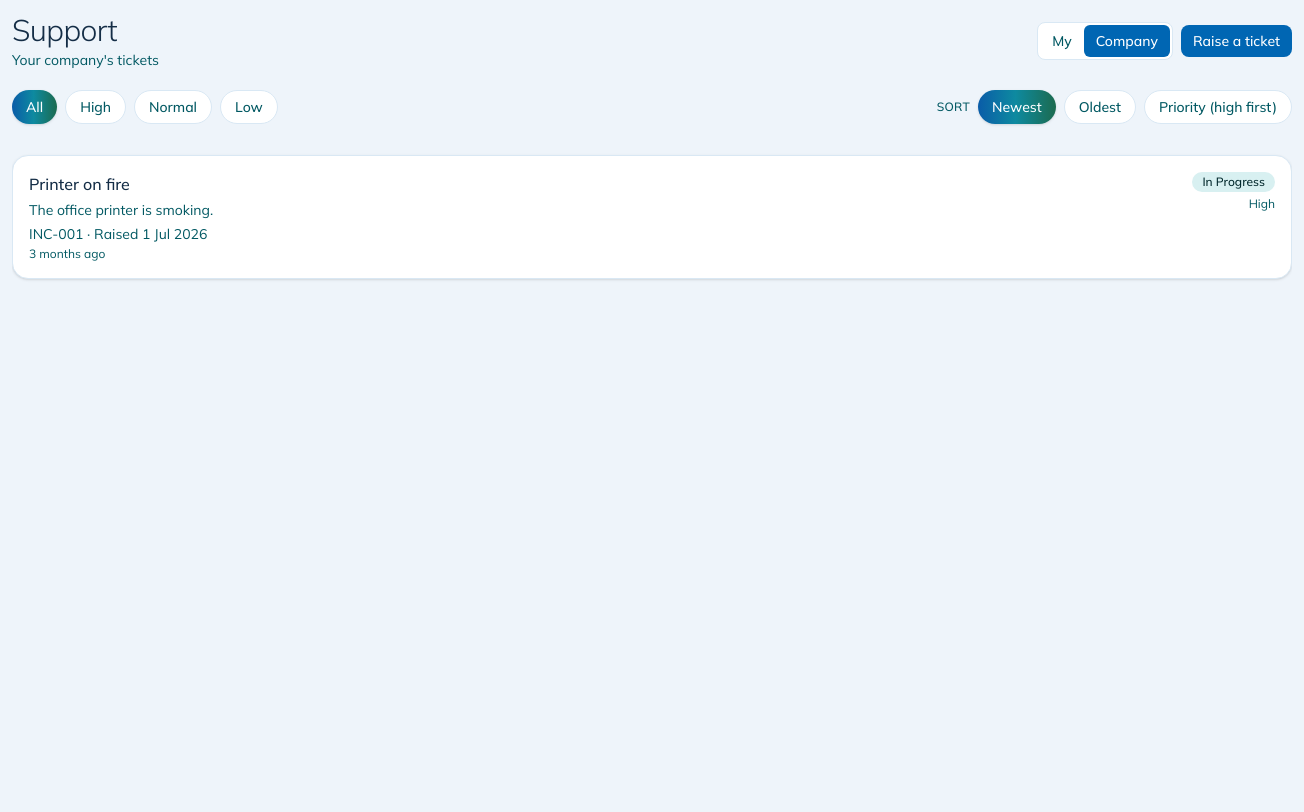
it: CasesPage › raise a ticket › disables submit until a summary is typed
The image size is (1304, 812).
Expected: the text "Printer on fire" is shown, [29,174,130,194]
Click the button "Raise a ticket": (1236, 41) [1181,25,1292,57]
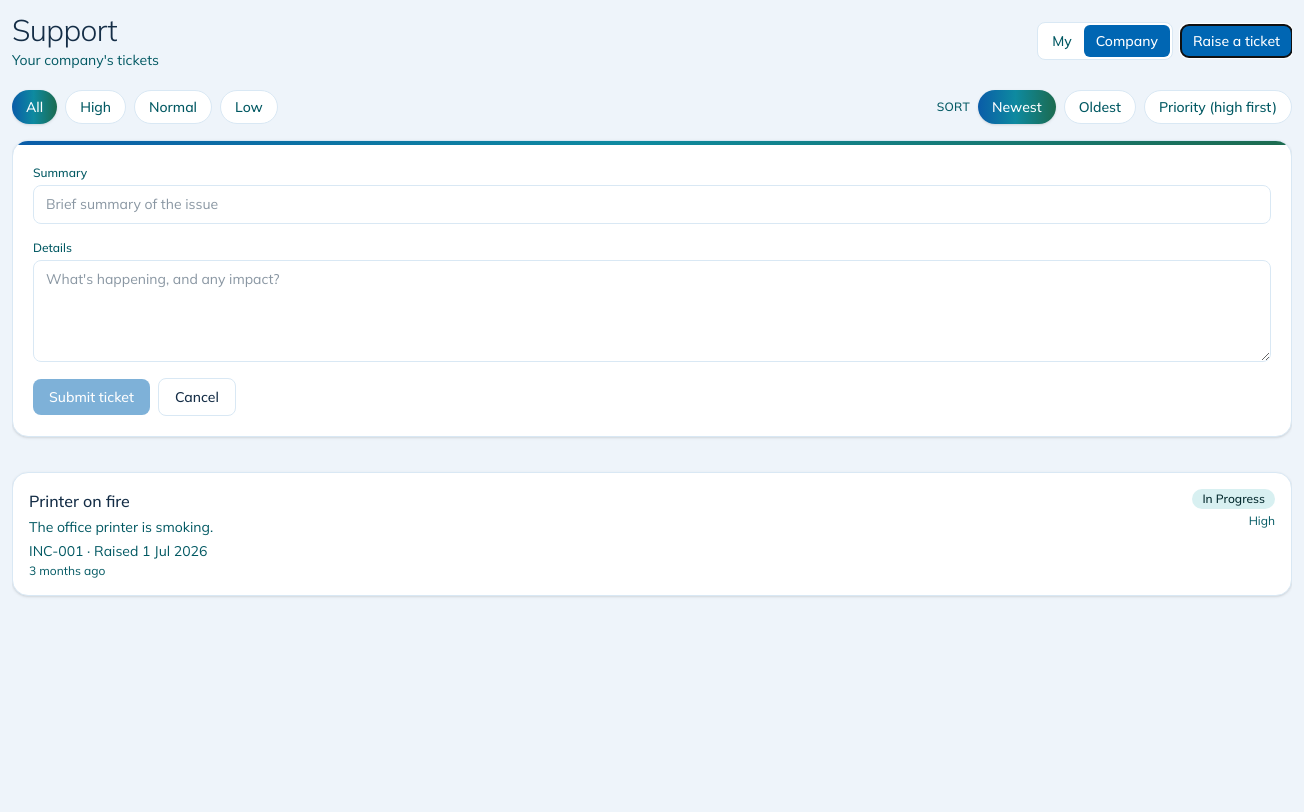
Expected: the button "Submit ticket" is disabled, [33,379,150,415]
In the field with placeholder "Brief summary of the issue": (652, 204) [33,185,1271,224], type "Broken laptop"
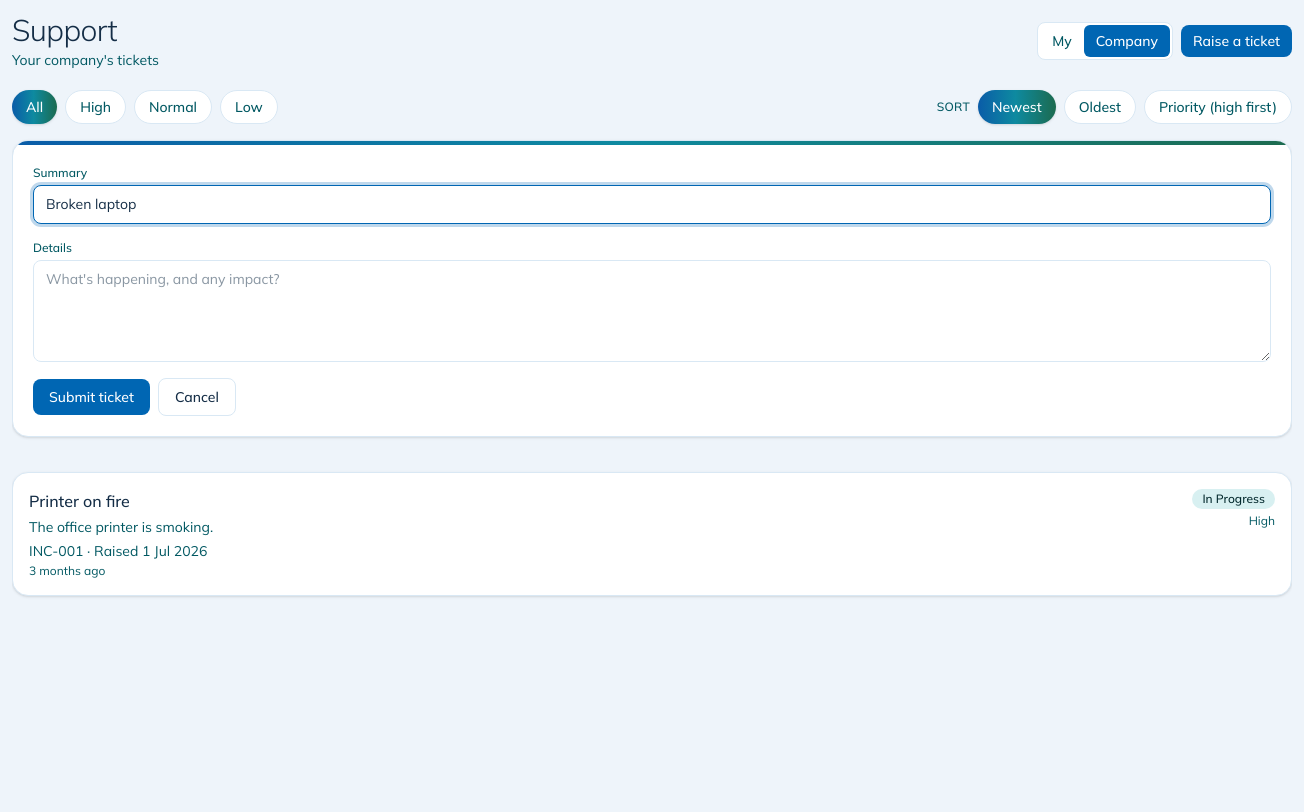
Expected: the button "Submit ticket" is enabled, [33,379,150,415]
